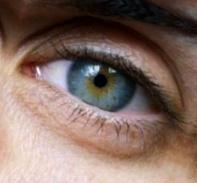eye: (67, 57, 137, 114)
